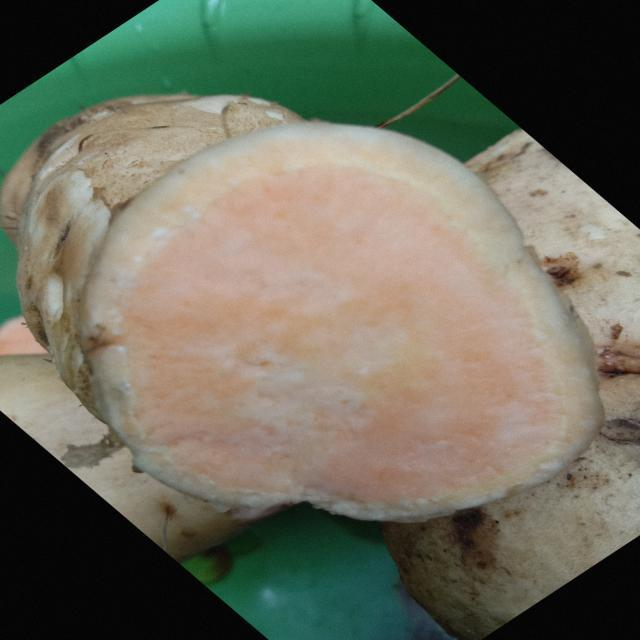Healthy Sweet Potato: (80, 121, 603, 521)
